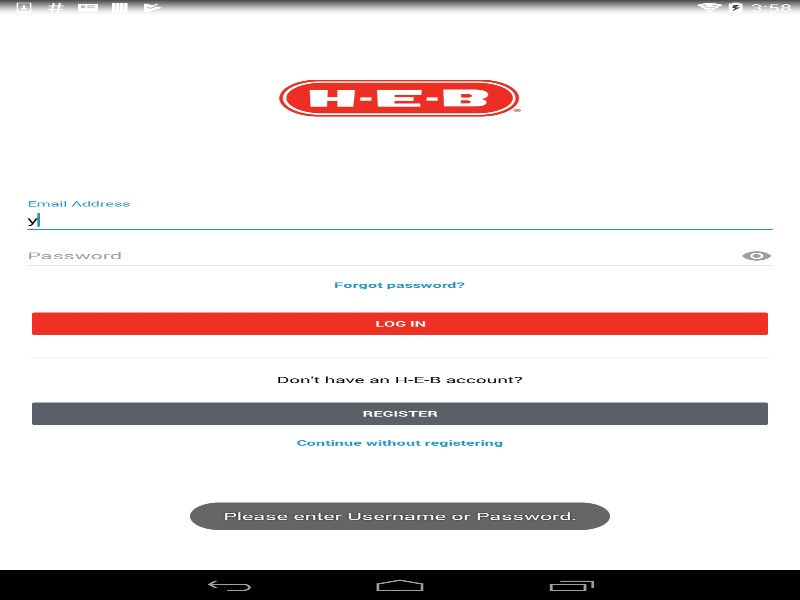Button: (26, 308, 773, 338), (26, 398, 773, 428), (735, 242, 778, 264)
Input: (22, 199, 778, 234), (22, 235, 778, 270)
